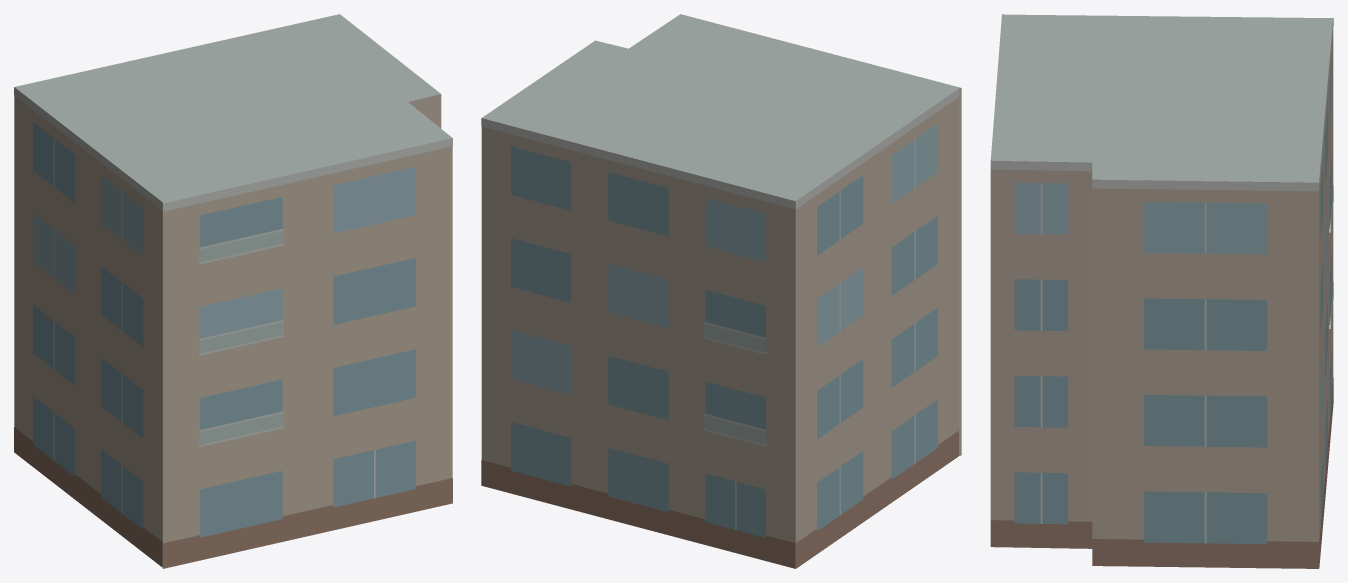
The model's file is survey-upis-32676377.glb.
3 views of the same model, side by side, from view 1: azimuth 30°, elevation 25°; view 2: azimuth 150°, elevation 25°; view 3: azimuth 270°, elevation 25° (orthographic). The views are drawn at different scales.
Parts seen in each view (by area): view 1: survey-upis-32676377.tmp; view 2: survey-upis-32676377.tmp; view 3: survey-upis-32676377.tmp.
Part boxes in pixels (x1,y1,x2,y2): survey-upis-32676377.tmp: (14, 14, 452, 568); survey-upis-32676377.tmp: (481, 14, 961, 568); survey-upis-32676377.tmp: (990, 14, 1333, 568).
Size of the model in its own units: 10.12 by 10.8 by 8.7.
